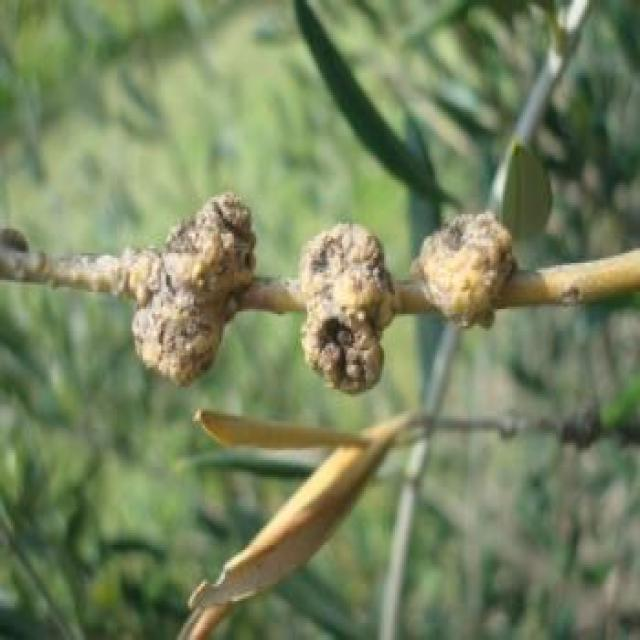Tuberculosis: (126, 192, 289, 384), (296, 221, 393, 392), (411, 212, 516, 326)
